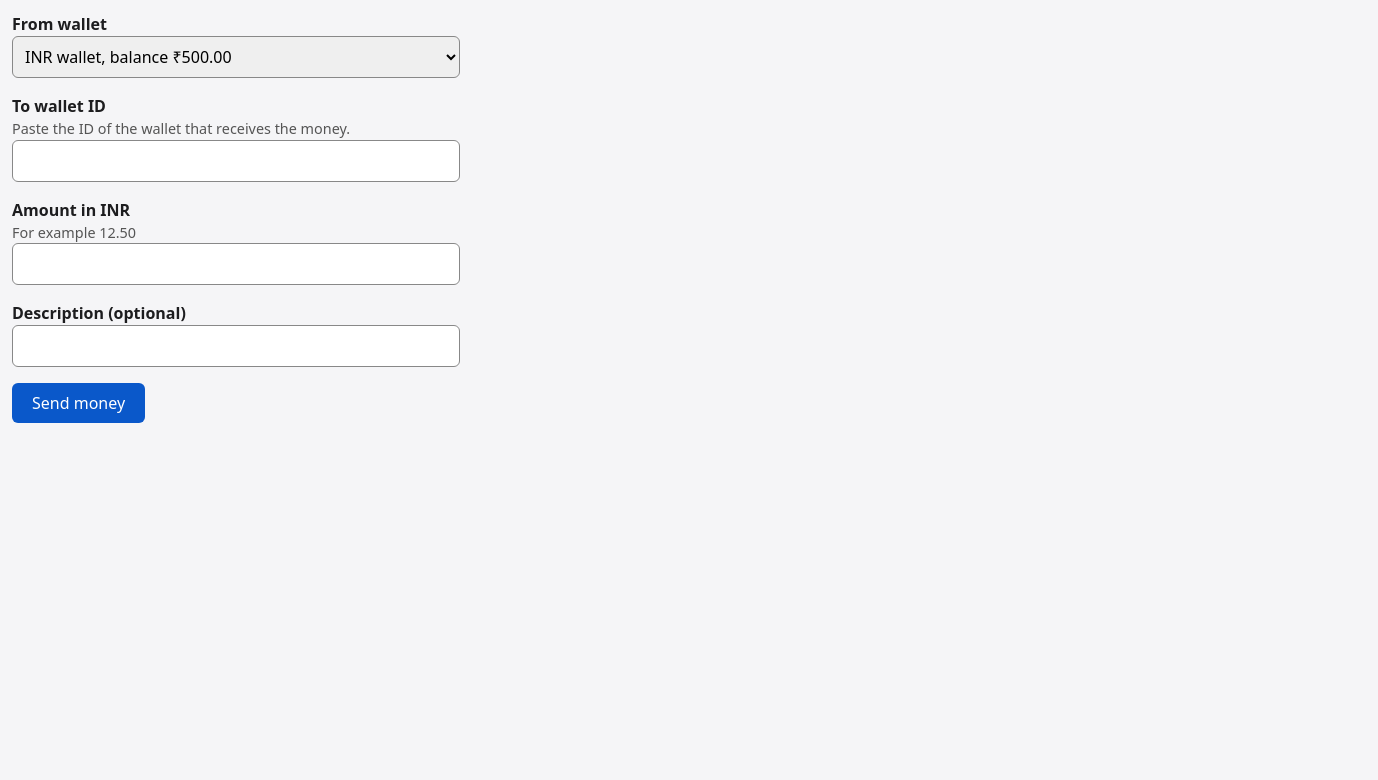
Test: TransferForm › validates in the browser, marks bad fields aria-invalid and moves focus to the error summary
This screenshot has width=1378, height=780.
Type "not-a-uuid" into the field labelled "To wallet ID" at (236, 161), box [12,140,460,182]
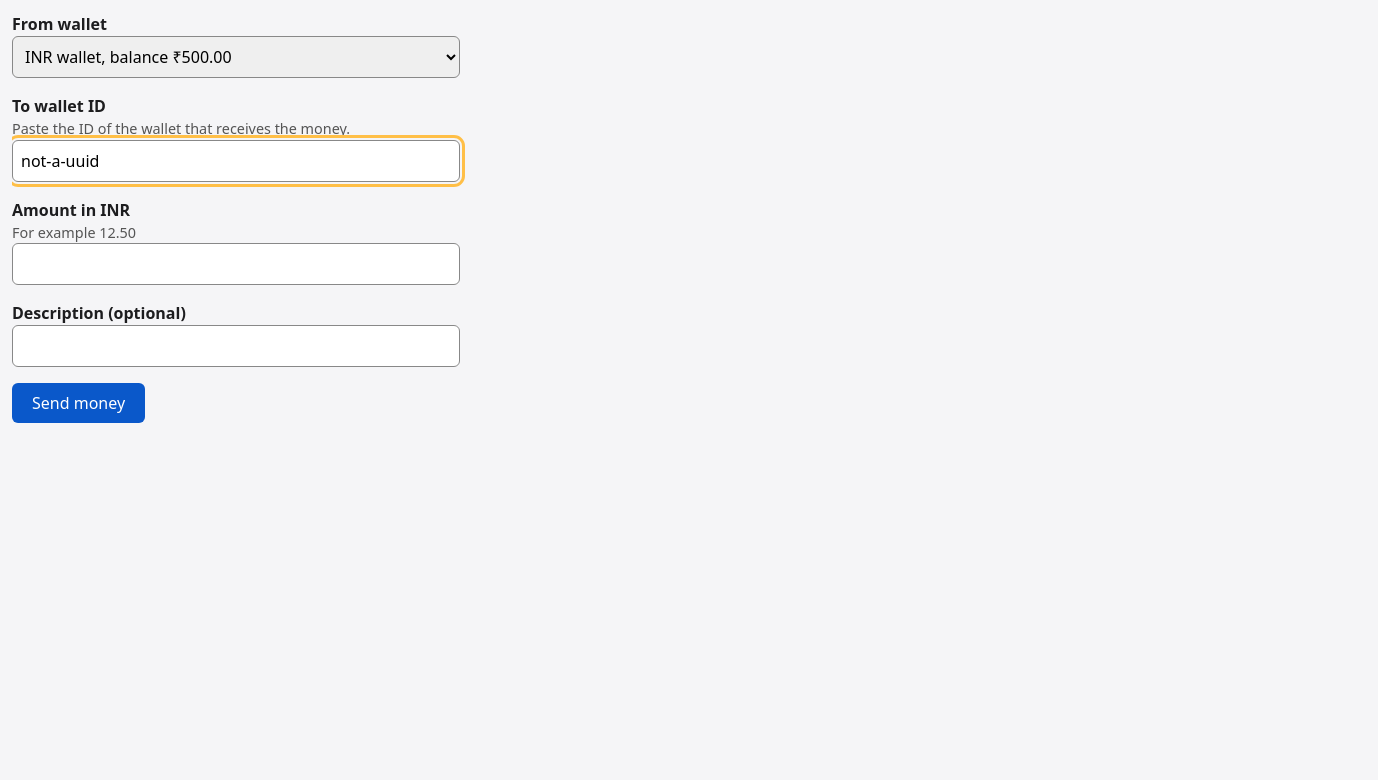
Type "1.234" into the field labelled "Amount in INR" at (236, 264), box [12,243,460,285]
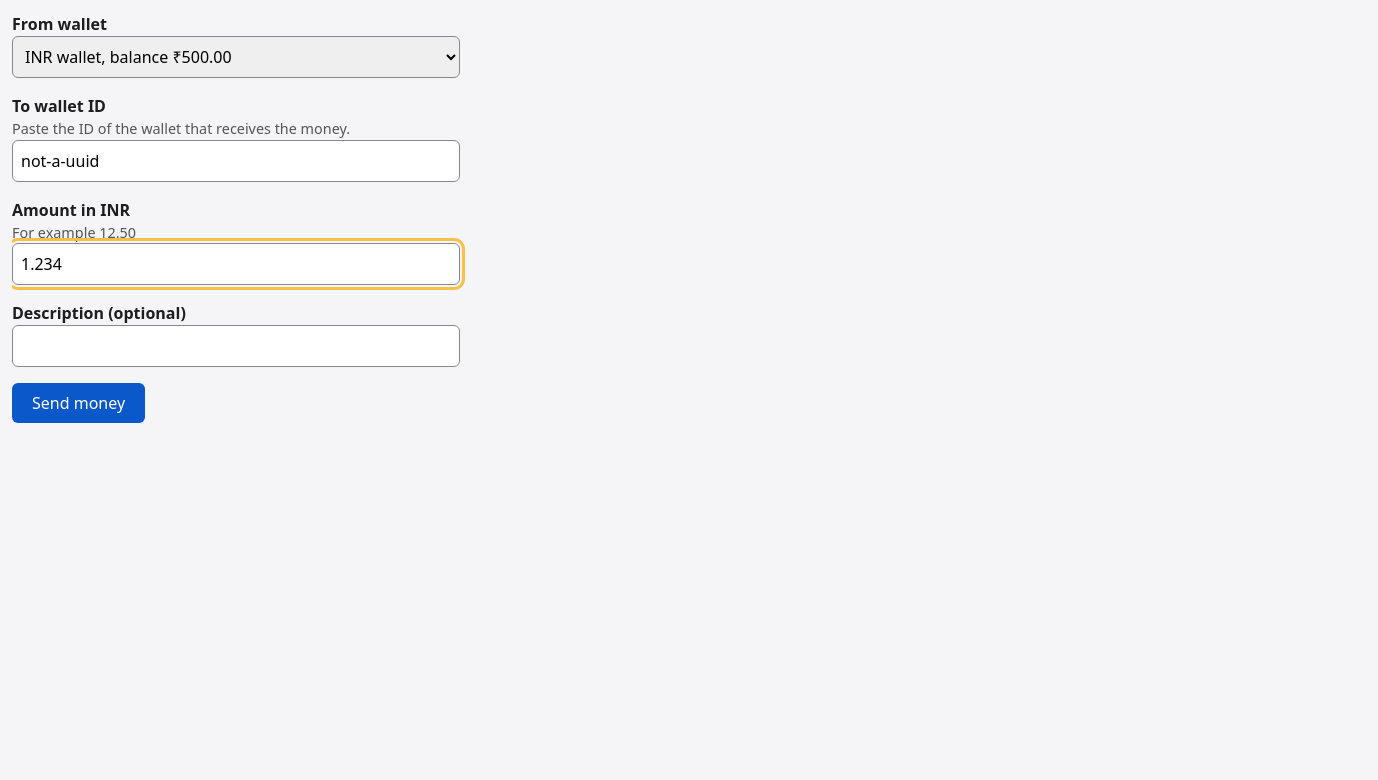
Click the button "Send money" at (79, 403), box [12,383,145,423]
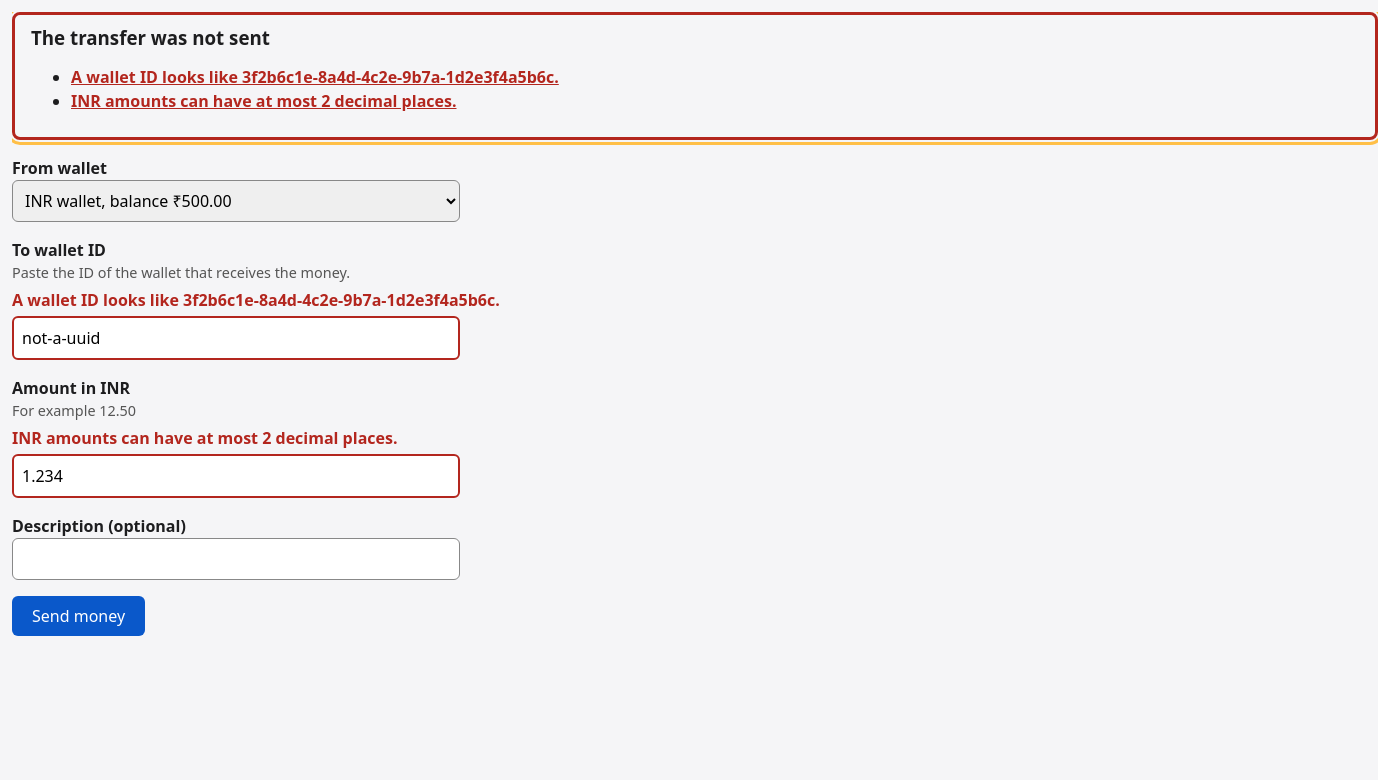
expect the message shows "INR amounts can have at most 2 decimal places.": met, box [71,90,456,112]
